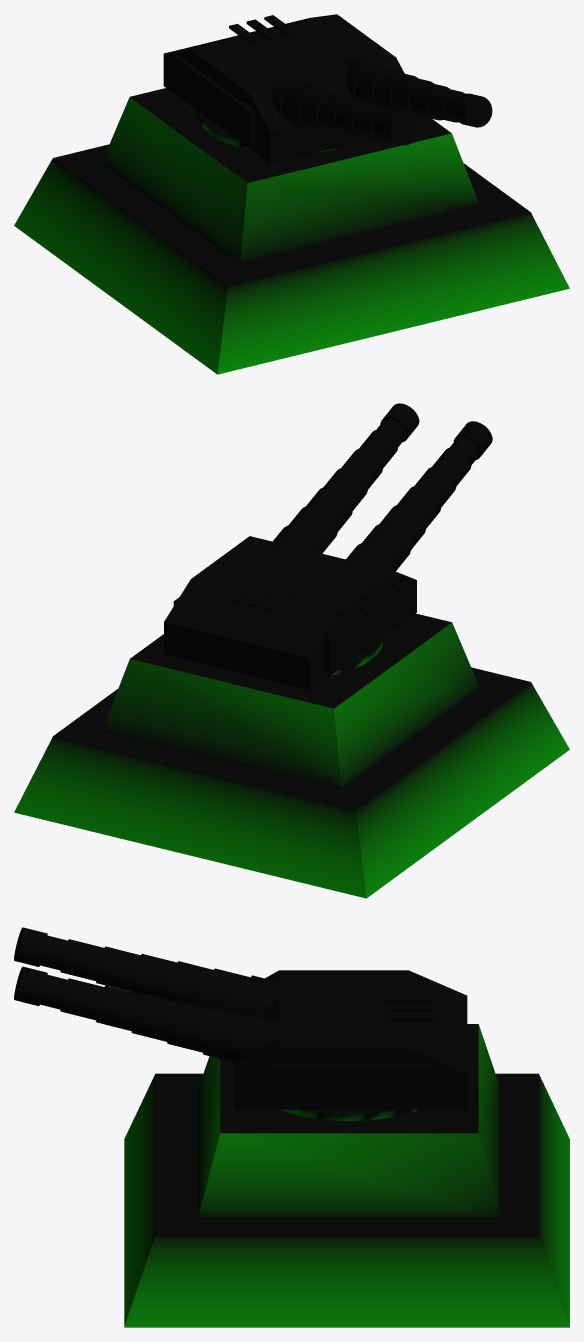
Rendered from orbitalturret.glb.
3 renders of one model, top to bottom at view 1: azimuth 30°, elevation 25°; view 2: azimuth 150°, elevation 25°; view 3: azimuth 270°, elevation 25°, orthographic. The views are drawn at different scales.
Visible parts, largest first — view 1: lod0_Base, lod0_Turret, lod0_Gun; view 2: lod0_Base, lod0_Turret, lod0_Gun; view 3: lod0_Base, lod0_Turret, lod0_Gun.
Boxes of the visible parts, x1,y1,x2,y2 form: lod0_Base: (14, 88, 569, 374); lod0_Turret: (163, 14, 416, 163); lod0_Gun: (272, 59, 492, 145); lod0_Base: (14, 613, 569, 898); lod0_Turret: (164, 536, 416, 690); lod0_Gun: (272, 403, 492, 600); lod0_Base: (124, 1024, 569, 1327); lod0_Turret: (234, 970, 467, 1109); lod0_Gun: (14, 927, 339, 1104).
Bounding box in the file's own units: 15.87 × 11.19 × 19.8.
